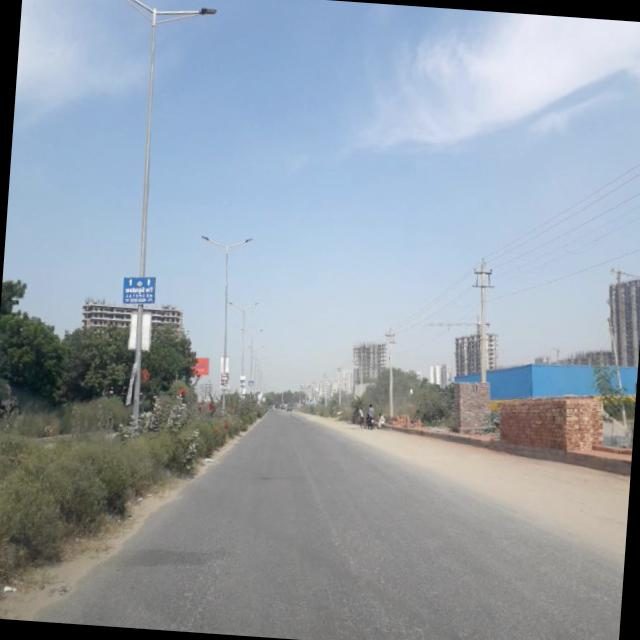pothole: (282, 441, 375, 585)
